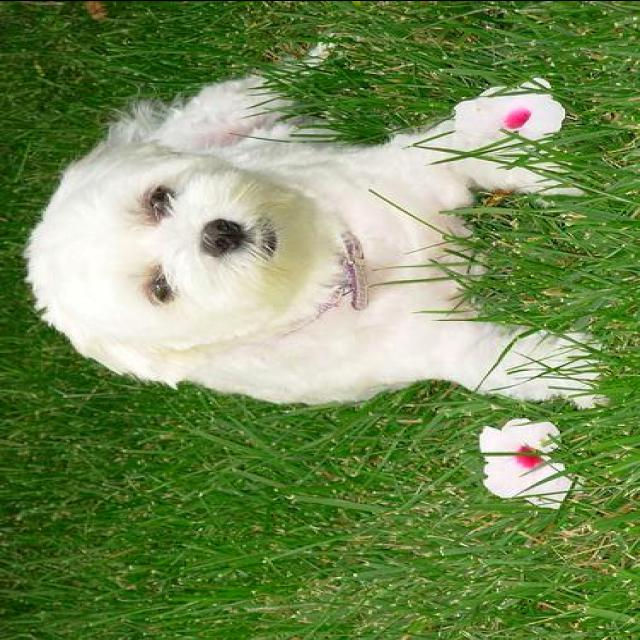maltese_dog: (22, 38, 609, 410)
